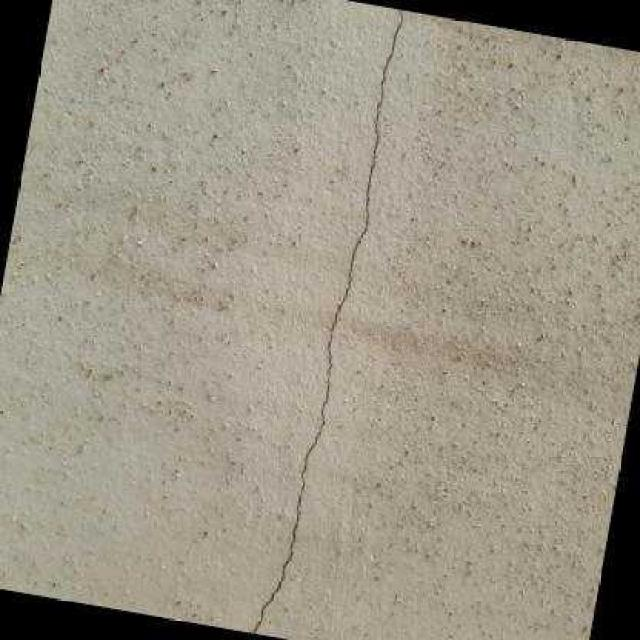D00: (250, 9, 403, 634)
